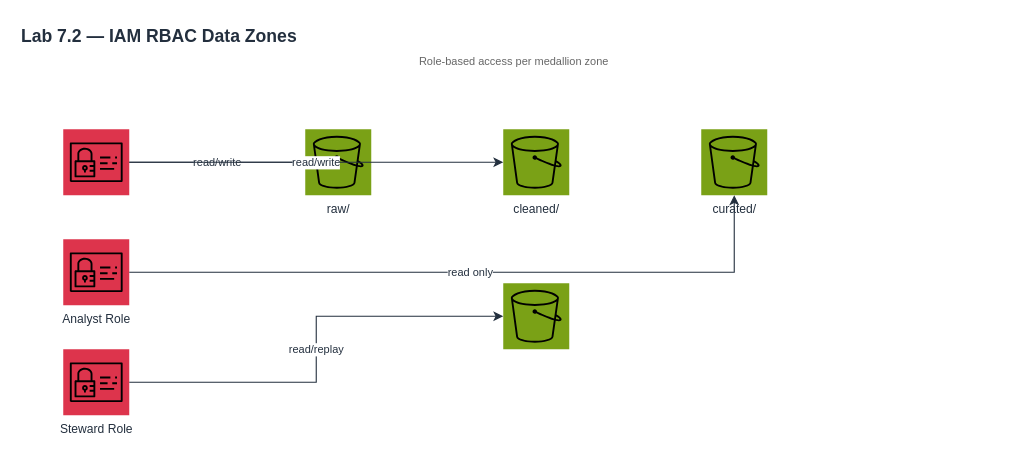
Some shapes in this 1027 by 455 pixel diagram are drawn without their labels. Here are the shapes that lost their labels. From the top down, the box of each, then its label:
(63, 129, 129, 195): Data Engineer Role
(503, 283, 569, 349): quarantine/
